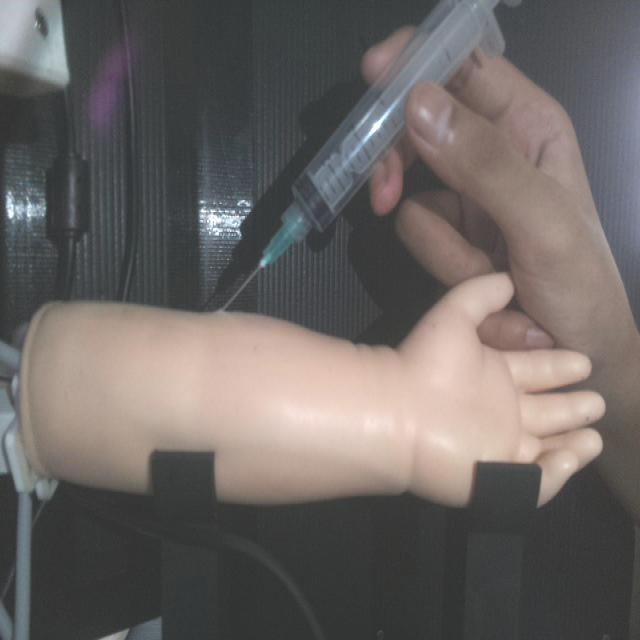Above 30 degrees: (214, 0, 512, 318)
